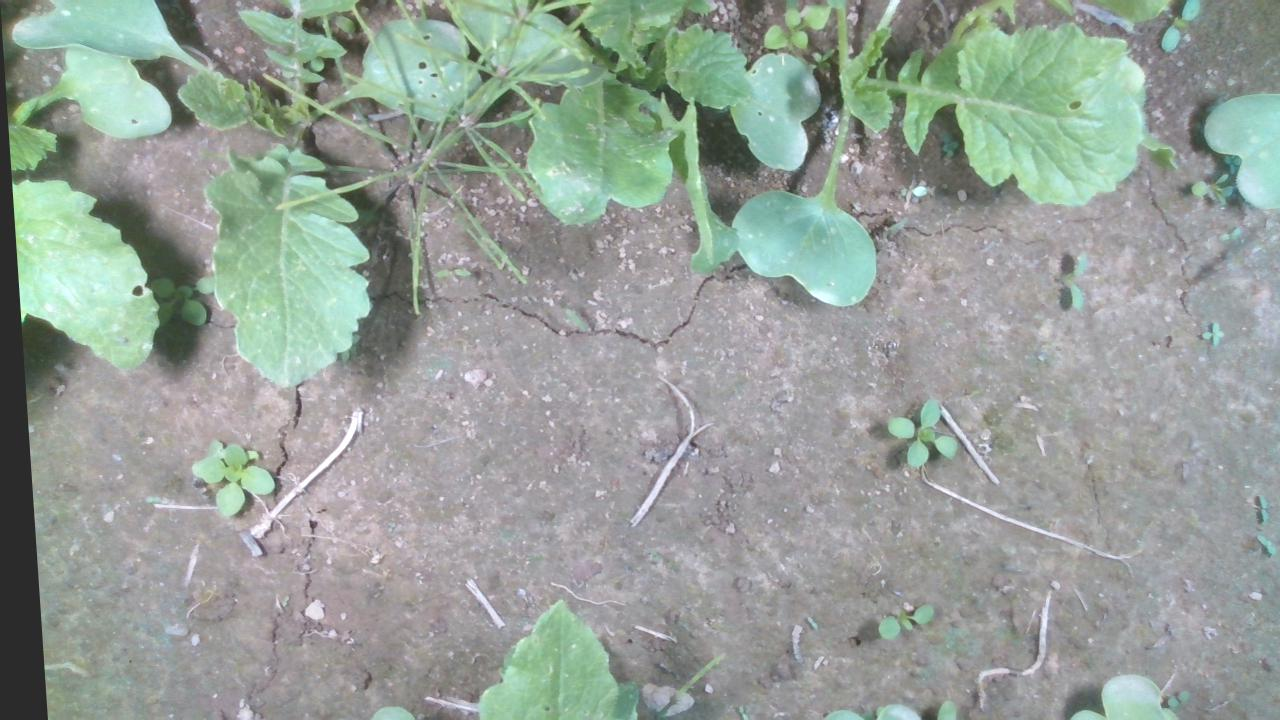weed: (862, 600, 932, 640)
